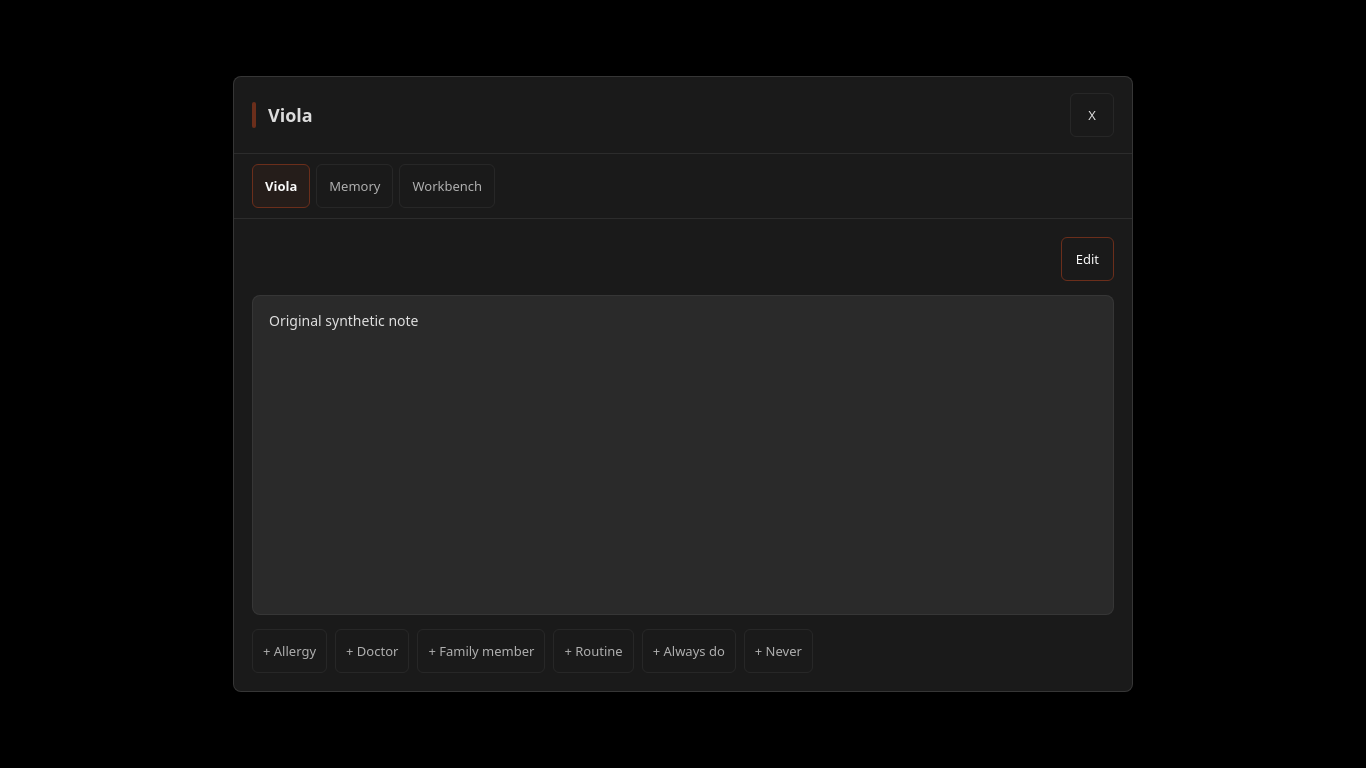
MemoryPanel desktop draft ownership through authFetch › keeps the draft and current error when the server refuses the save
Click the button "Edit".
click(1087, 259)  # box [1061,237,1114,281]
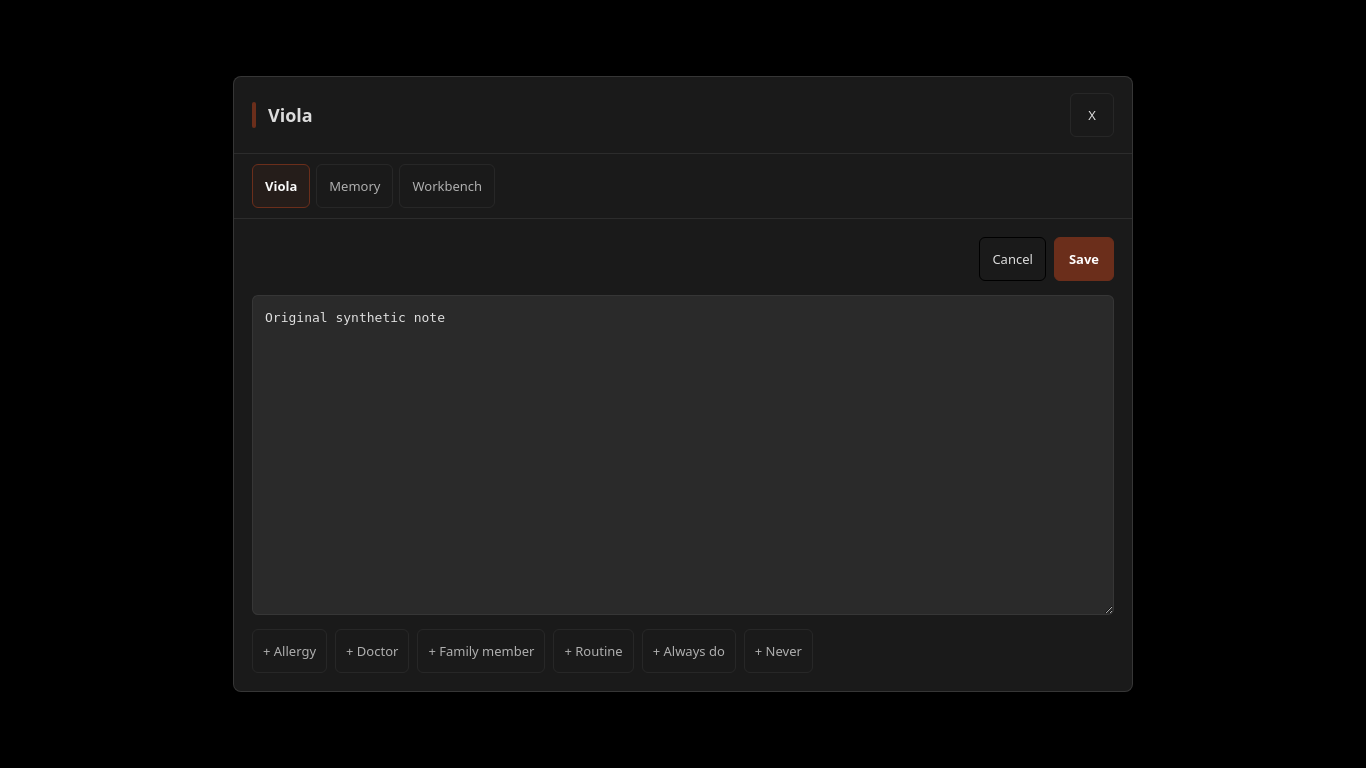
Replace the text in the text box named "Edit VIOLA.md" with "Retain this synthetic draft" at (683, 455), box [252,295,1114,615]
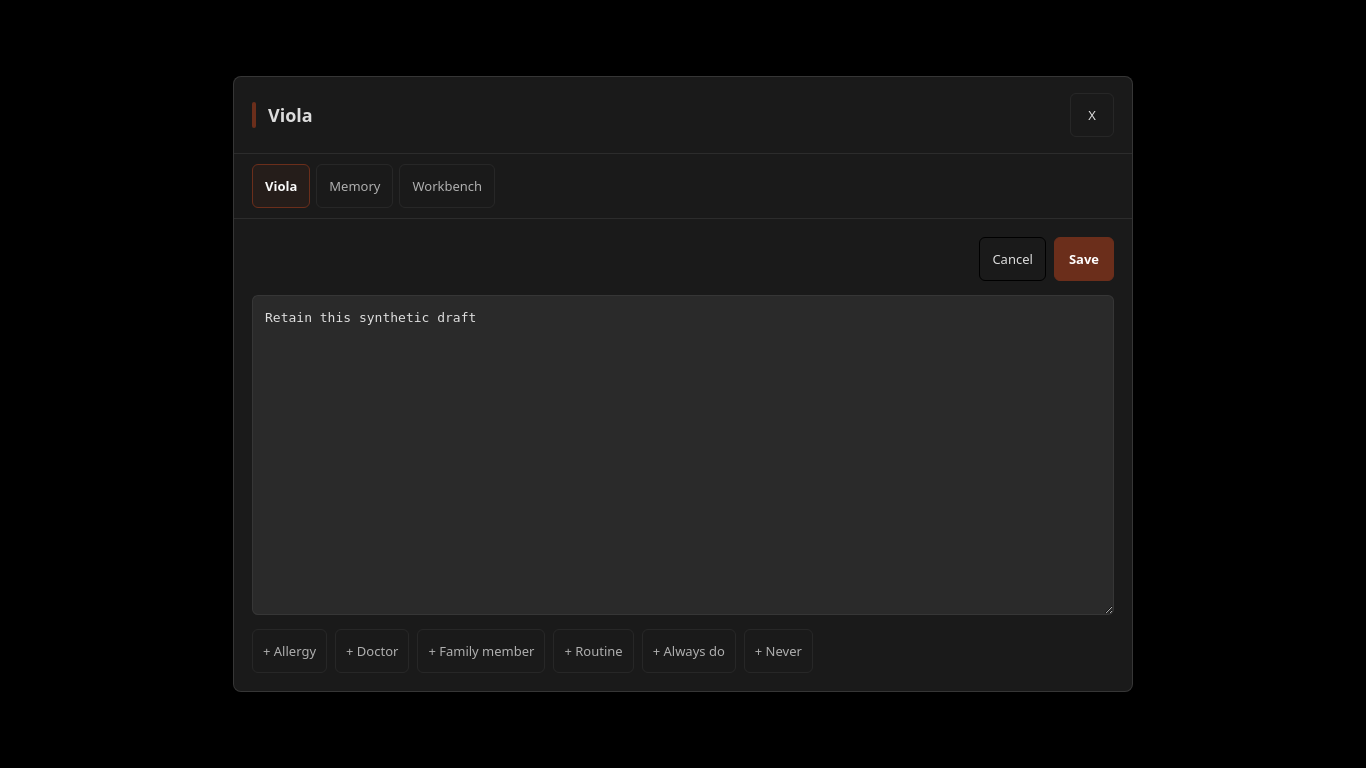
Click the button "Save".
click(1084, 259)  # box [1054,237,1114,281]
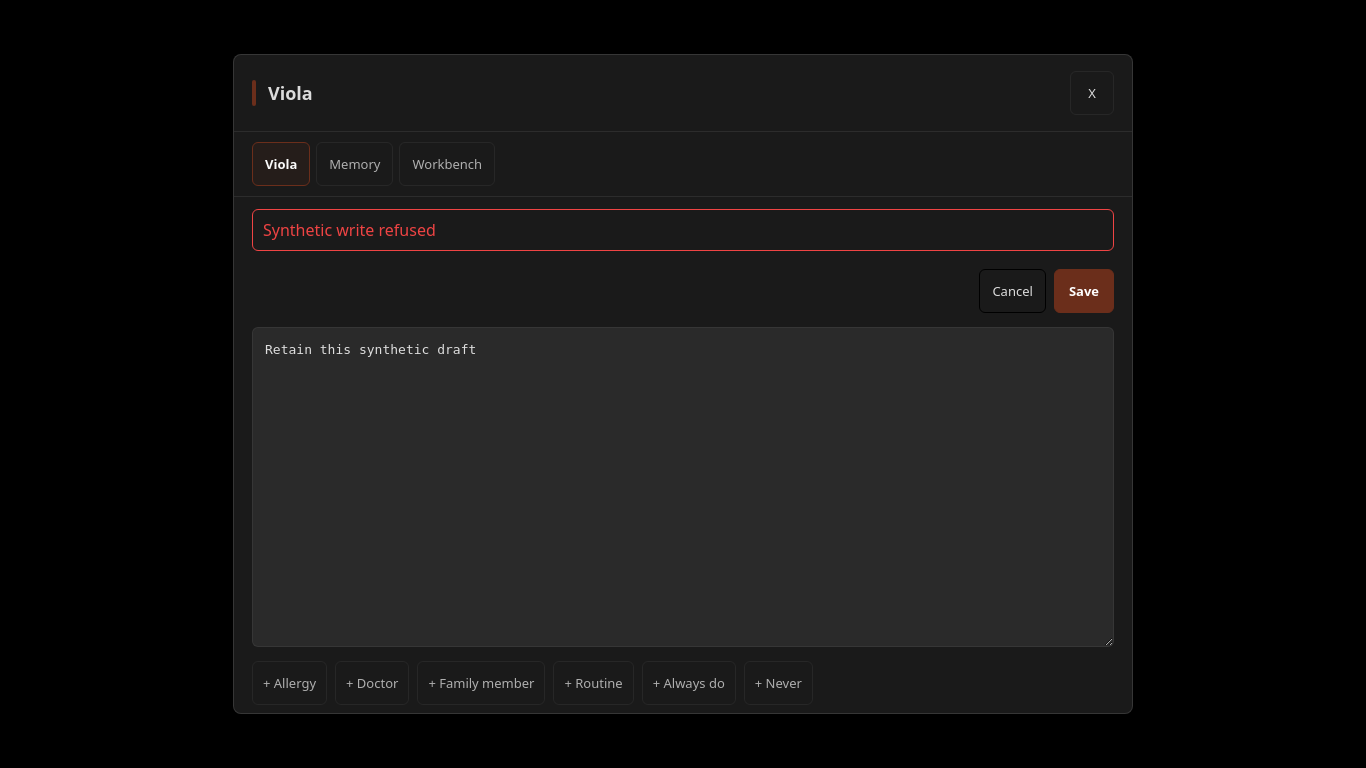
Now the text "Synthetic write refused" is shown, box [252,209,1114,251]
